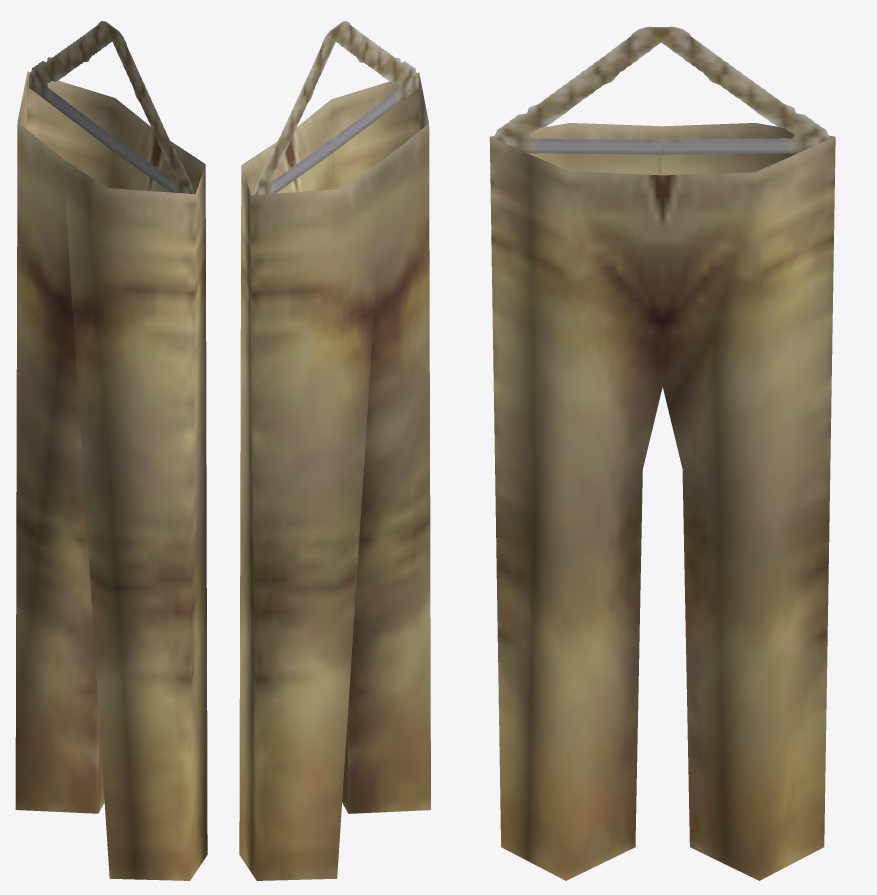
Rendered from hangingpantsbrown.obj.
The picture shows the model from 3 angles, left to right: view 1: azimuth 30°, elevation 25°; view 2: azimuth 150°, elevation 25°; view 3: azimuth 270°, elevation 25°; orthographic projection. The views are drawn at different scales.
Parts seen in each view (by area): view 1: hangingpantsbrown; view 2: hangingpantsbrown; view 3: hangingpantsbrown.
Part boxes in pixels (x1=…): hangingpantsbrown: x1=15, y1=21, x2=207, y2=880; hangingpantsbrown: x1=239, y1=21, x2=430, y2=880; hangingpantsbrown: x1=489, y1=26, x2=835, y2=880.
Bounding box in the file's own units: 0.1583 × 1.27 × 0.5466.
1 material, 1 textured.
